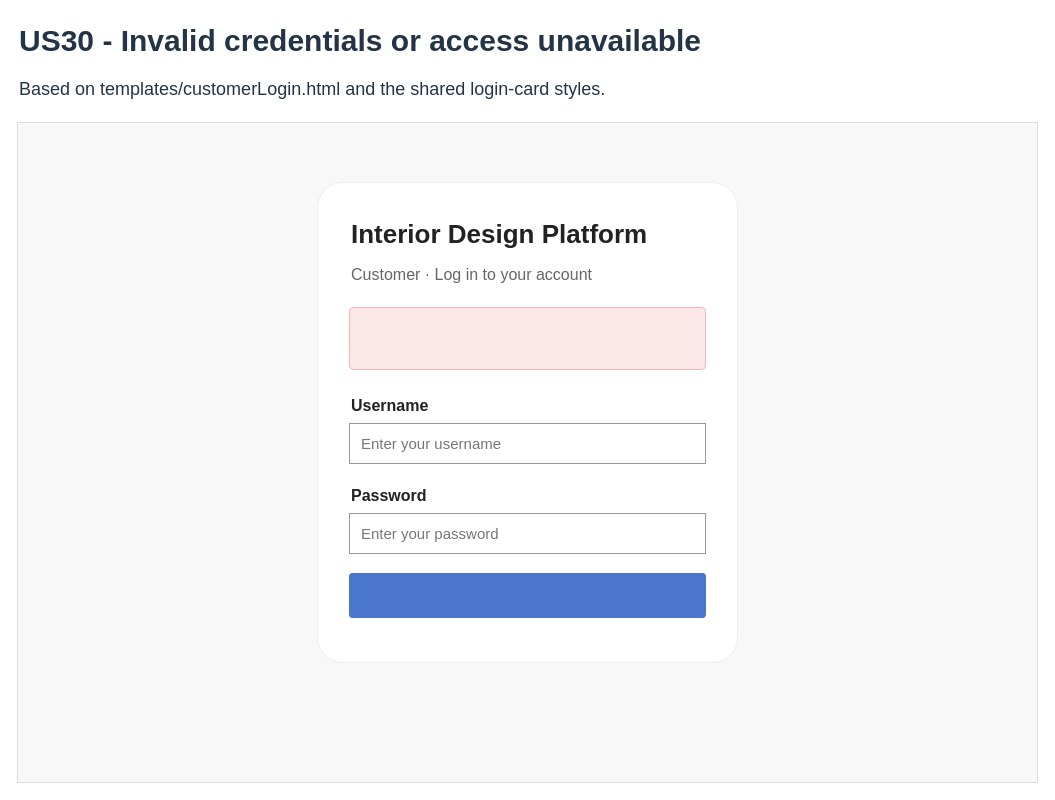
Some shapes in this 1055 by 800 pixel diagram are drawn without their labels. The box of each missing label's shape, as (x1, y1, x2, y2) in pixels:
Invalid login details or access unavailable: (348, 306, 706, 370)
Log in: (348, 572, 706, 618)
